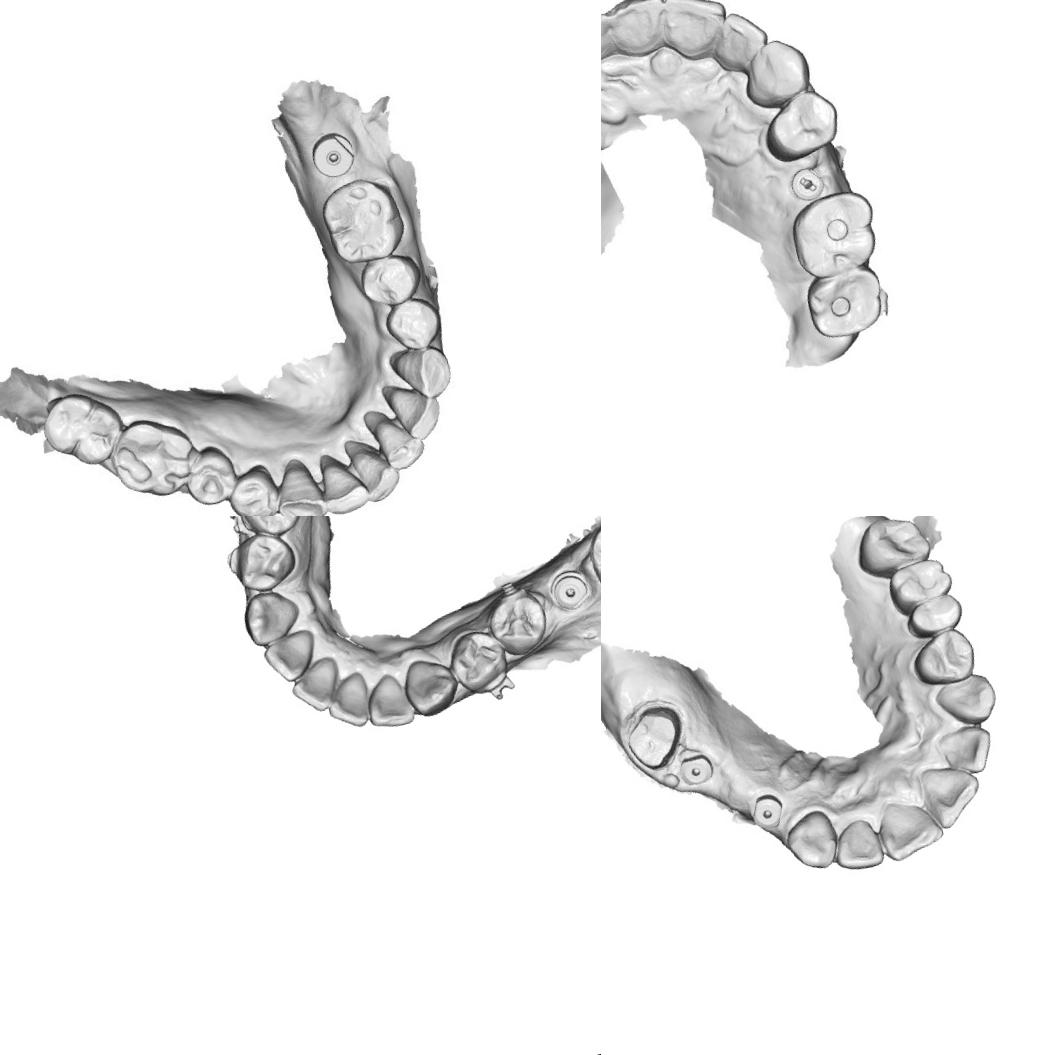canine: (732, 29, 818, 113), (396, 649, 465, 722), (778, 804, 843, 876), (384, 336, 452, 404), (236, 585, 306, 650), (931, 670, 1002, 733), (266, 450, 332, 516)
crown: (618, 696, 692, 777)
implant: (298, 115, 366, 190), (546, 564, 596, 613), (746, 789, 788, 833), (674, 750, 718, 790)
implant_minus: (784, 157, 832, 206)
incisor: (870, 788, 948, 864), (916, 755, 988, 833), (703, 3, 774, 78), (652, 0, 735, 55), (348, 432, 402, 510), (258, 625, 324, 688), (284, 654, 347, 719), (359, 667, 420, 734), (318, 667, 379, 734), (384, 374, 444, 442), (604, 0, 667, 63), (934, 720, 999, 781), (365, 403, 420, 474), (826, 813, 886, 876), (317, 452, 368, 514), (601, 3, 620, 69)
molar: (102, 407, 209, 507), (782, 184, 885, 284), (34, 382, 126, 476), (314, 172, 404, 266), (800, 262, 892, 345), (848, 516, 936, 583), (883, 554, 956, 616)
premolar: (754, 84, 846, 165), (222, 526, 300, 598), (482, 584, 554, 662), (442, 622, 512, 698), (906, 622, 983, 691), (379, 292, 445, 355), (358, 250, 421, 304), (901, 589, 967, 640), (184, 448, 238, 510), (227, 465, 279, 516), (235, 516, 306, 540)
